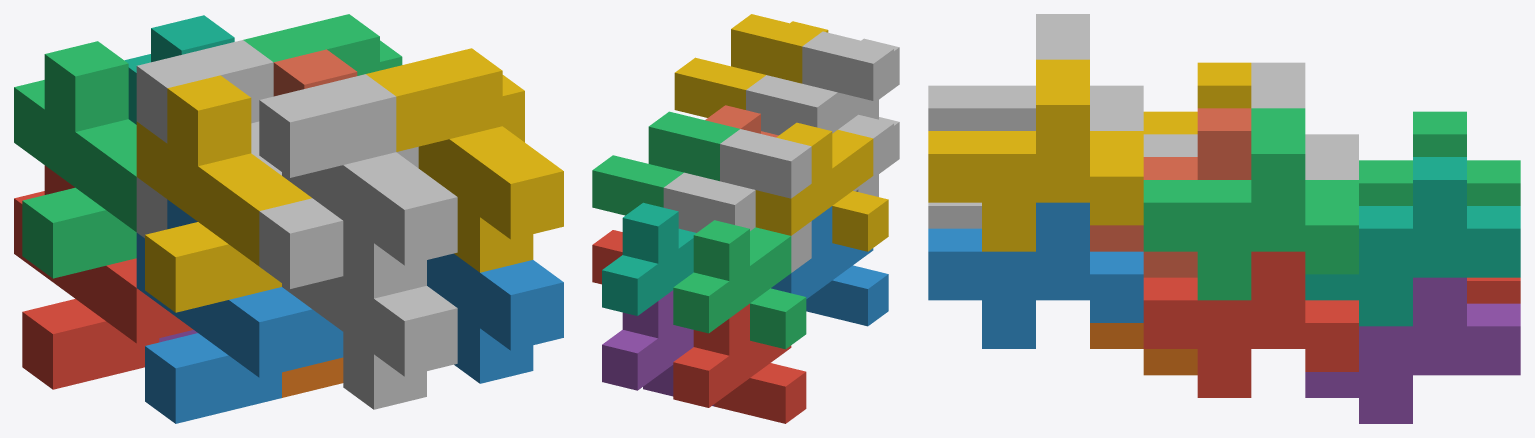
Rendered from tiling.obj.
3 renders of one model, left to right at view 1: azimuth 30°, elevation 25°; view 2: azimuth 150°, elevation 25°; view 3: azimuth 270°, elevation 25°, orthographic. The views are drawn at different scales.
Visible parts, largest first — view 1: copy_2_domain_4, copy_1_domain_4, copy_2_domain_8, copy_1_domain_3, copy_2_domain_2, copy_1_domain_2, copy_1_domain_1, copy_2_domain_6, copy_2_domain_3, copy_2_domain_7, copy_1_domain_7, copy_1_domain_8 (+2 smaller); view 2: copy_1_domain_3, copy_2_domain_4, copy_1_domain_4, copy_1_domain_1, copy_2_domain_3, copy_2_domain_8, copy_2_domain_7, copy_1_domain_7, copy_1_domain_2, copy_1_domain_5, copy_2_domain_2, copy_2_domain_5 (+2 smaller); view 3: copy_2_domain_7, copy_2_domain_8, copy_2_domain_5, copy_2_domain_6, copy_1_domain_7, copy_1_domain_5, copy_2_domain_4, copy_1_domain_8, copy_1_domain_3, copy_2_domain_3, copy_1_domain_4, copy_1_domain_6 (+2 smaller).
Part boxes in pixels (x1,y1,x2,y2): copy_2_domain_4: [259, 74, 457, 298]; copy_1_domain_4: [136, 75, 311, 312]; copy_2_domain_8: [366, 48, 563, 272]; copy_1_domain_3: [14, 41, 136, 278]; copy_2_domain_2: [259, 198, 457, 409]; copy_1_domain_2: [136, 199, 343, 423]; copy_1_domain_1: [14, 165, 193, 389]; copy_2_domain_6: [427, 253, 563, 383]; copy_2_domain_3: [136, 40, 281, 175]; copy_2_domain_7: [243, 14, 402, 75]; copy_1_domain_7: [124, 15, 234, 124]; copy_1_domain_8: [273, 49, 357, 96]; copy_1_domain_3: [673, 220, 806, 349]; copy_2_domain_4: [746, 31, 899, 135]; copy_1_domain_4: [755, 122, 888, 251]; copy_1_domain_1: [673, 303, 806, 423]; copy_2_domain_3: [663, 129, 811, 232]; copy_2_domain_8: [674, 14, 828, 117]; copy_2_domain_7: [592, 111, 739, 215]; copy_1_domain_7: [602, 202, 696, 315]; copy_1_domain_2: [771, 206, 888, 326]; copy_1_domain_5: [602, 290, 714, 406]; copy_2_domain_2: [838, 114, 899, 196]; copy_2_domain_5: [592, 230, 622, 284]; copy_2_domain_7: [1143, 108, 1358, 300]; copy_2_domain_8: [928, 59, 1143, 251]; copy_2_domain_5: [1143, 251, 1358, 397]; copy_2_domain_6: [928, 202, 1143, 348]; copy_1_domain_7: [1305, 157, 1520, 326]; copy_1_domain_5: [1305, 277, 1520, 423]; copy_2_domain_4: [928, 14, 1143, 130]; copy_1_domain_8: [1090, 108, 1251, 277]; copy_1_domain_3: [1359, 111, 1520, 205]; copy_2_domain_3: [1143, 62, 1358, 179]; copy_1_domain_4: [1143, 62, 1251, 134]; copy_1_domain_6: [1090, 323, 1197, 375].
Bounding box in the file's own units: 6 × 7 × 11.
